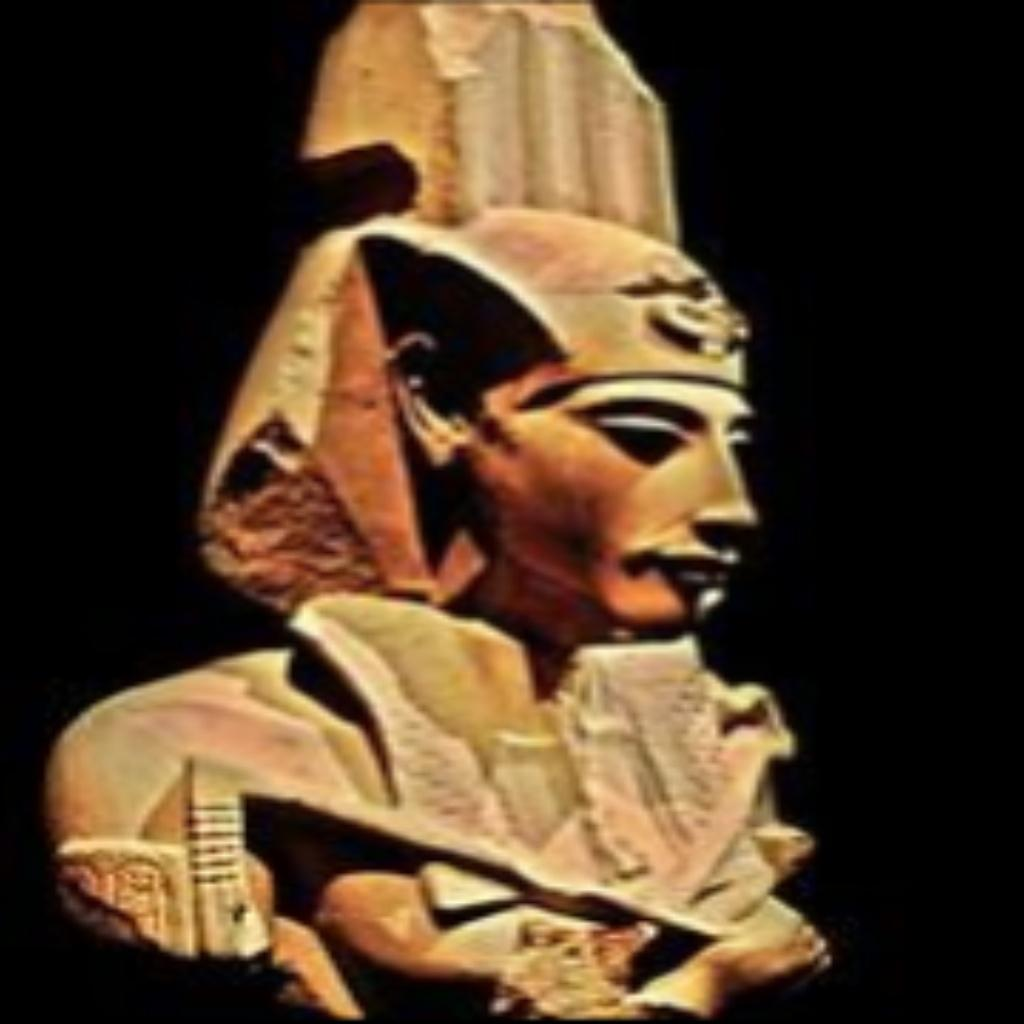Akhenaten: (28, 0, 848, 1015)
